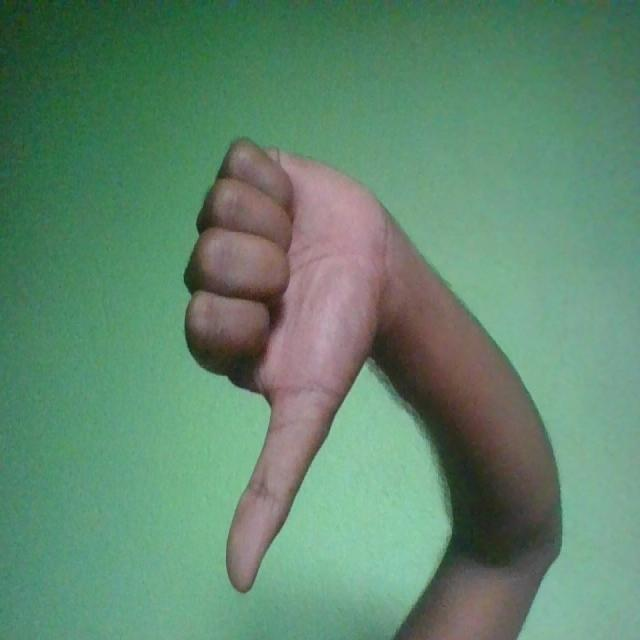Dislike: (186, 134, 399, 594)
